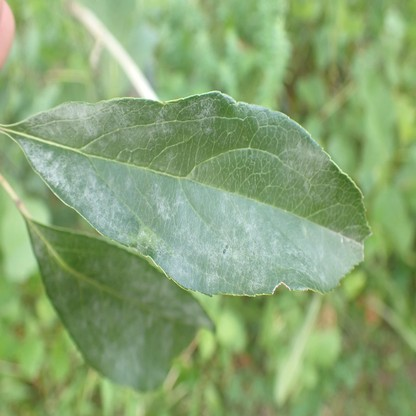powdery_mildew: (18, 93, 365, 294), (27, 221, 213, 393)
